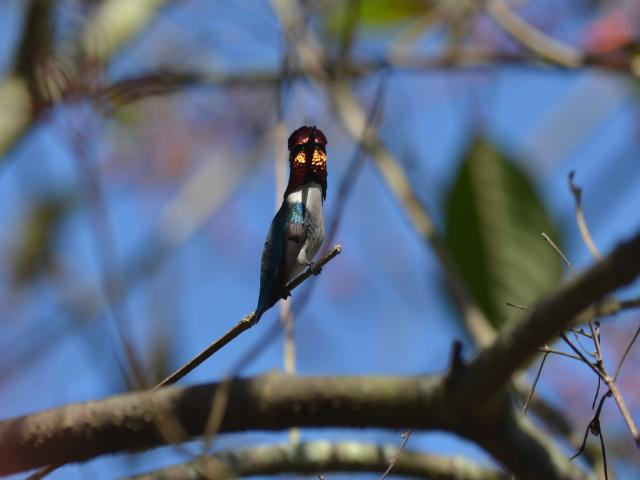Bird: (247, 132, 336, 317)
